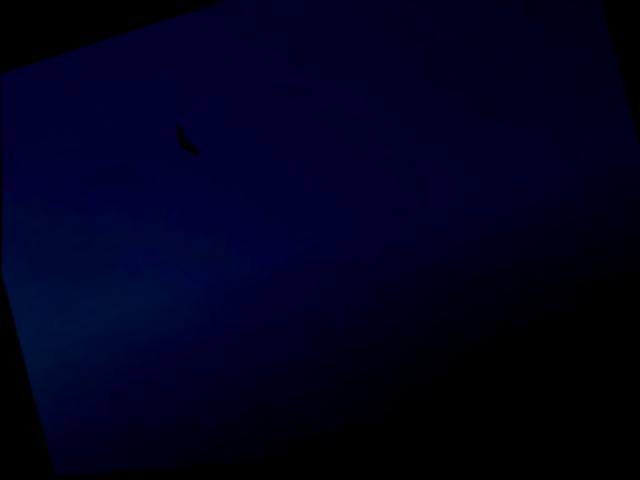iha: (171, 123, 198, 164)
